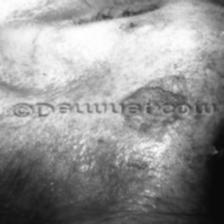Potentially Malignant Skin Tumors: (120, 74, 196, 138)
